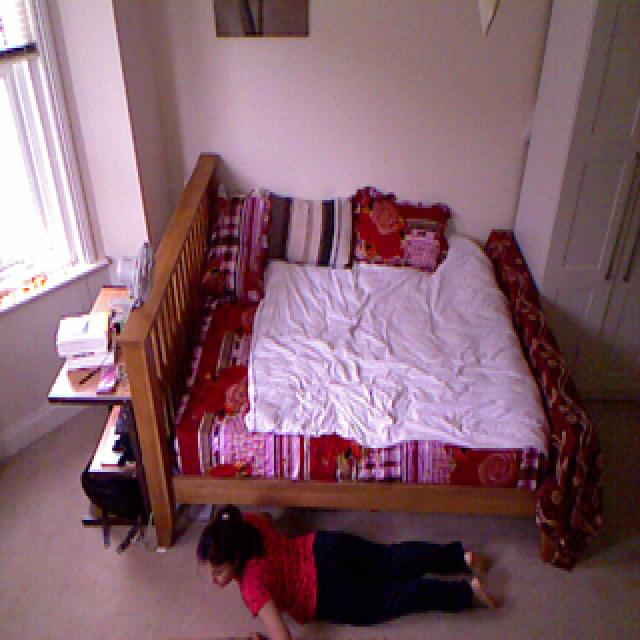lying: (196, 498, 504, 640)
